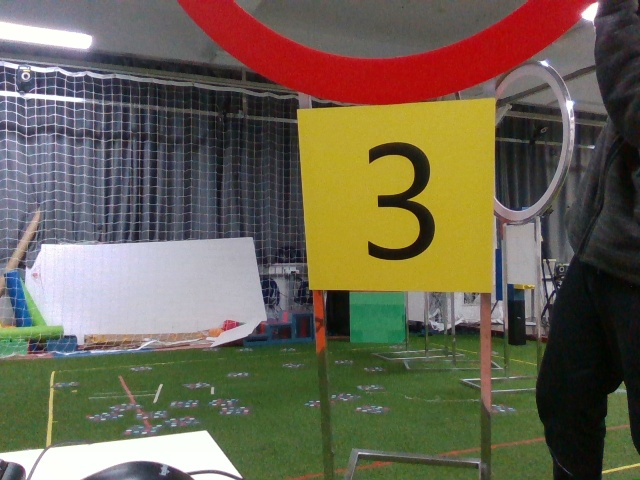target: (304, 112, 490, 294)
